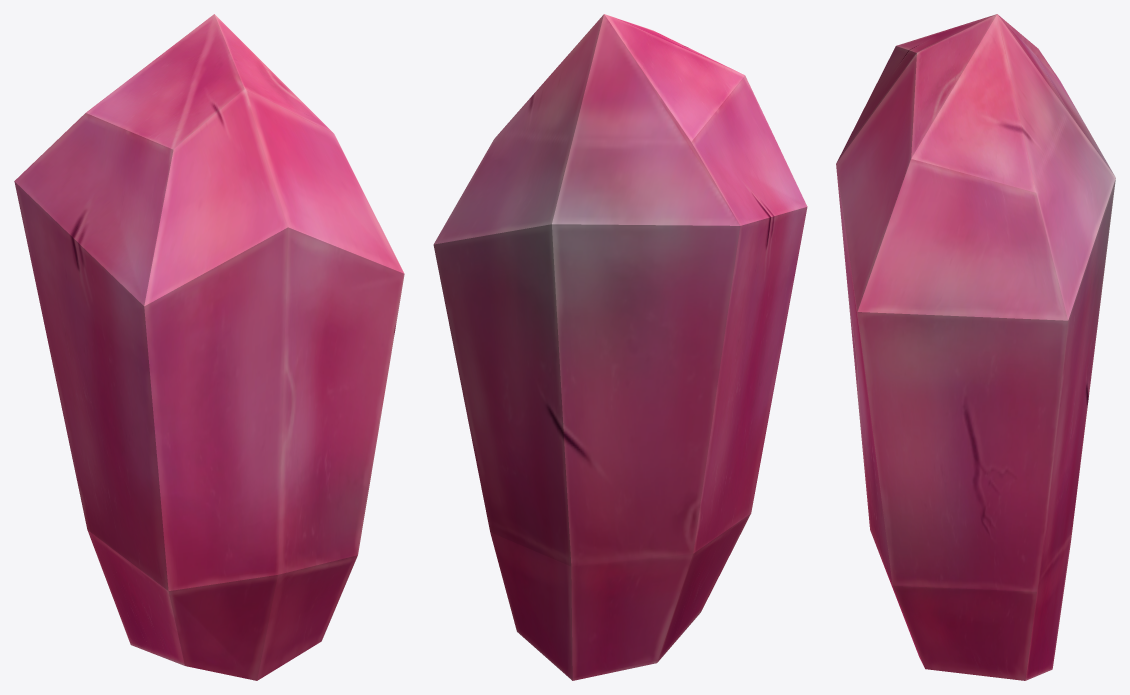
The model's file is eberron-dragonshard.glb.
The picture shows the model from 3 angles, left to right: view 1: azimuth 30°, elevation 25°; view 2: azimuth 150°, elevation 25°; view 3: azimuth 270°, elevation 25°; orthographic projection.
Visible parts, largest first — view 1: Cube; view 2: Cube; view 3: Cube.
Part boxes in pixels (<box>): Cube: <box>14,14,404,680</box>; Cube: <box>433,14,807,680</box>; Cube: <box>836,14,1115,680</box>.
Bounding box in the file's own units: 76.26 × 156 × 60.49.
1 material, 1 textured.
